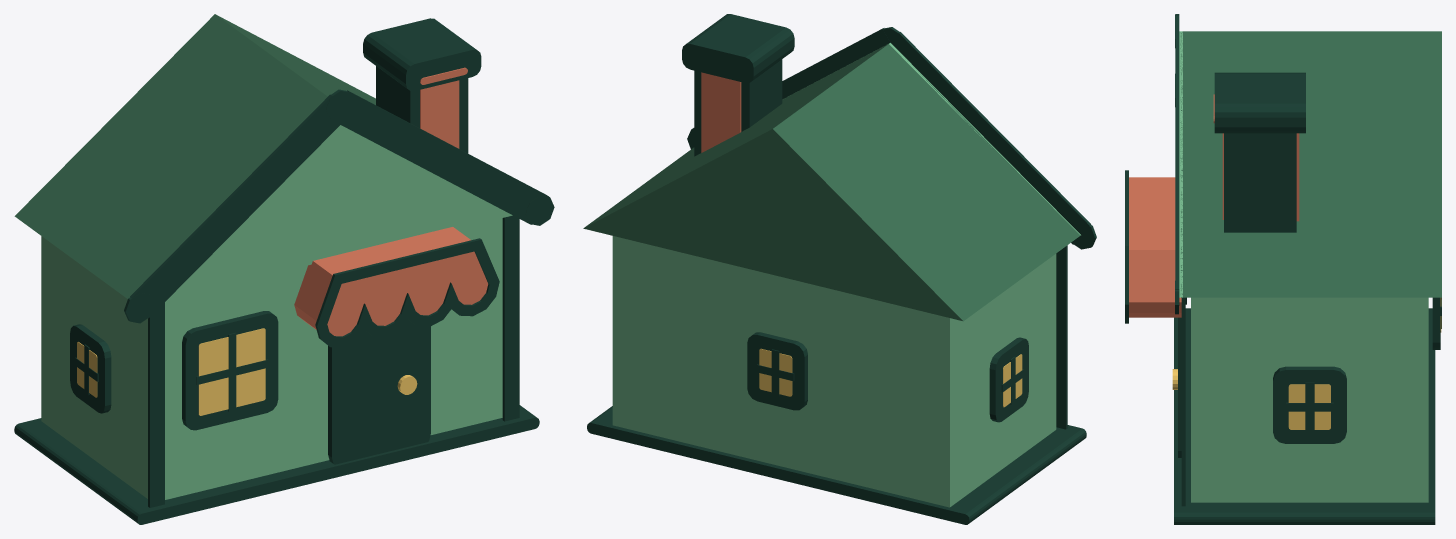
Rendered from variant-05.glb.
3 renders of one model, left to right at view 1: azimuth 30°, elevation 25°; view 2: azimuth 150°, elevation 25°; view 3: azimuth 270°, elevation 25°, orthographic. The views are drawn at different scales.
Parts seen in each view (by area): view 1: Awning; view 2: Awning; view 3: Awning.
Boxes of the visible parts, x1,y1,x2,y2 form: Awning: [14, 14, 554, 524]; Awning: [583, 14, 1096, 524]; Awning: [1125, 14, 1441, 524].
Size of the model in its own units: 1.14 by 0.9757 by 0.6857.
